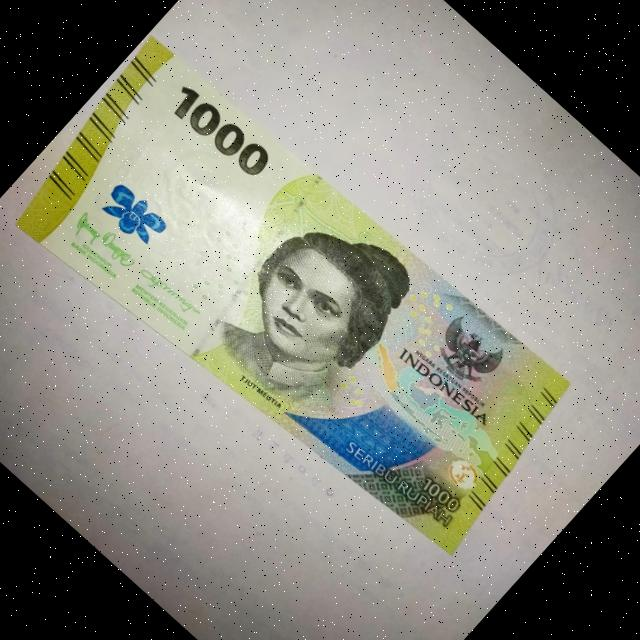1K: (0, 13, 608, 612)
